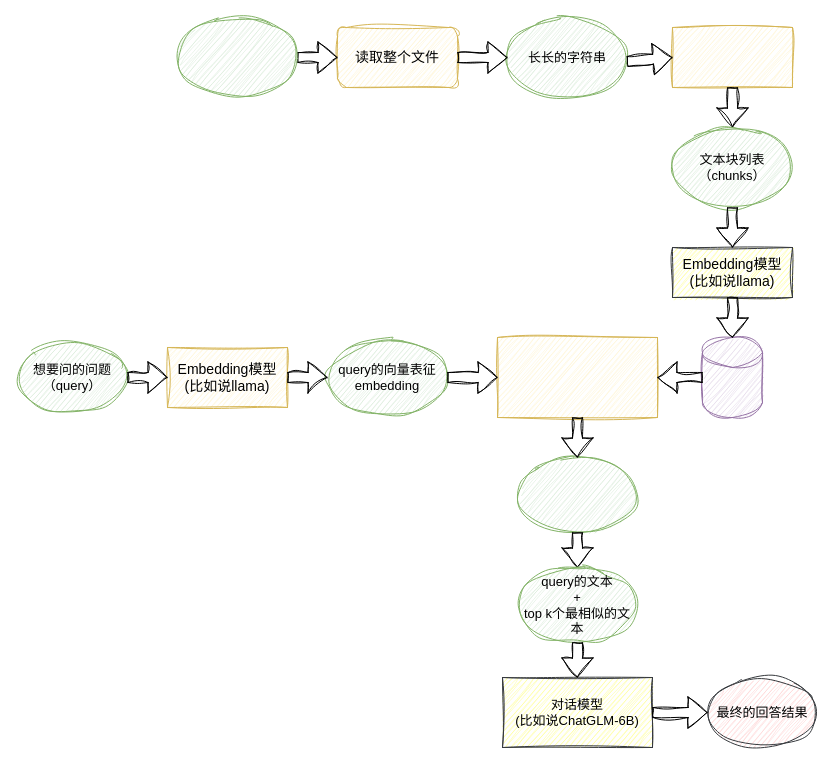
Some shapes in this 835 by 765 pixel diagram are drawn without their labels. Here are the shapes that lost their labels. From the top down, the centre of each, then its label:
At point 237,57: "不同类型的文件 pdf/text/textgrid".
At point 732,57: "文本分割".
At point 577,377: "计算query的embedding跟向量库中的embedding的相似度".
At point 732,377: "文本块的向量库".
At point 577,494: "top k个最相似的embedding和对应的文本块".
